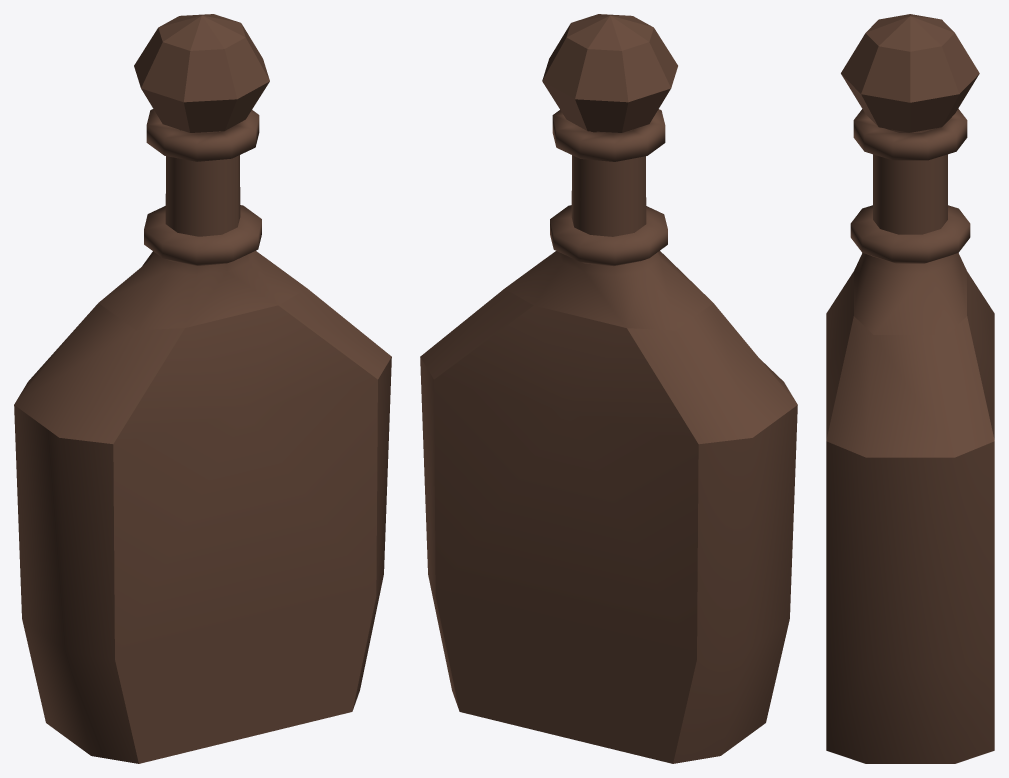
File: Flakon.fbx
3 renders of one model, left to right at view 1: azimuth 30°, elevation 25°; view 2: azimuth 150°, elevation 25°; view 3: azimuth 270°, elevation 25°, orthographic.
Parts seen in each view (by area): view 1: Flakon_glass, Flakon kryshechka; view 2: Flakon_glass, Flakon kryshechka; view 3: Flakon_glass, Flakon kryshechka.
Boxes of the visible parts, left/top/right/bottom form: Flakon_glass: left=14, top=109, right=391, bottom=763; Flakon kryshechka: left=134, top=14, right=269, bottom=133; Flakon_glass: left=420, top=109, right=797, bottom=763; Flakon kryshechka: left=542, top=14, right=677, bottom=133; Flakon_glass: left=826, top=108, right=994, bottom=763; Flakon kryshechka: left=841, top=14, right=979, bottom=132.
Bounding box in the file's own units: 18.28 × 36.31 × 8.13.
